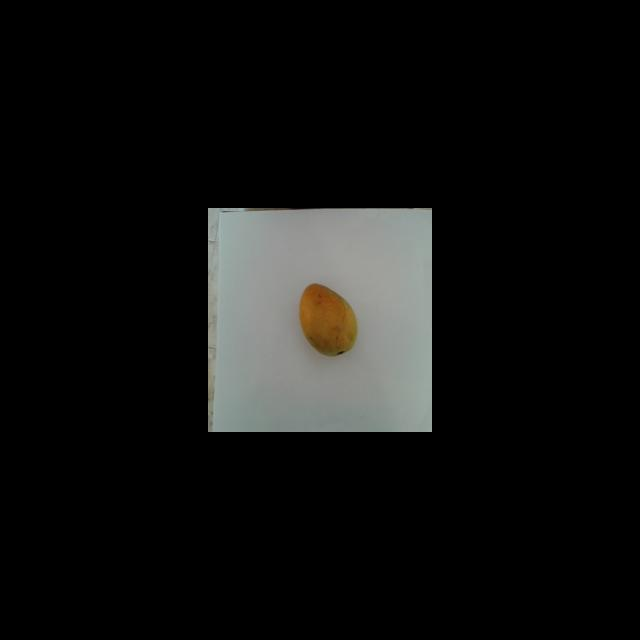Mango: (298, 282, 357, 356)
